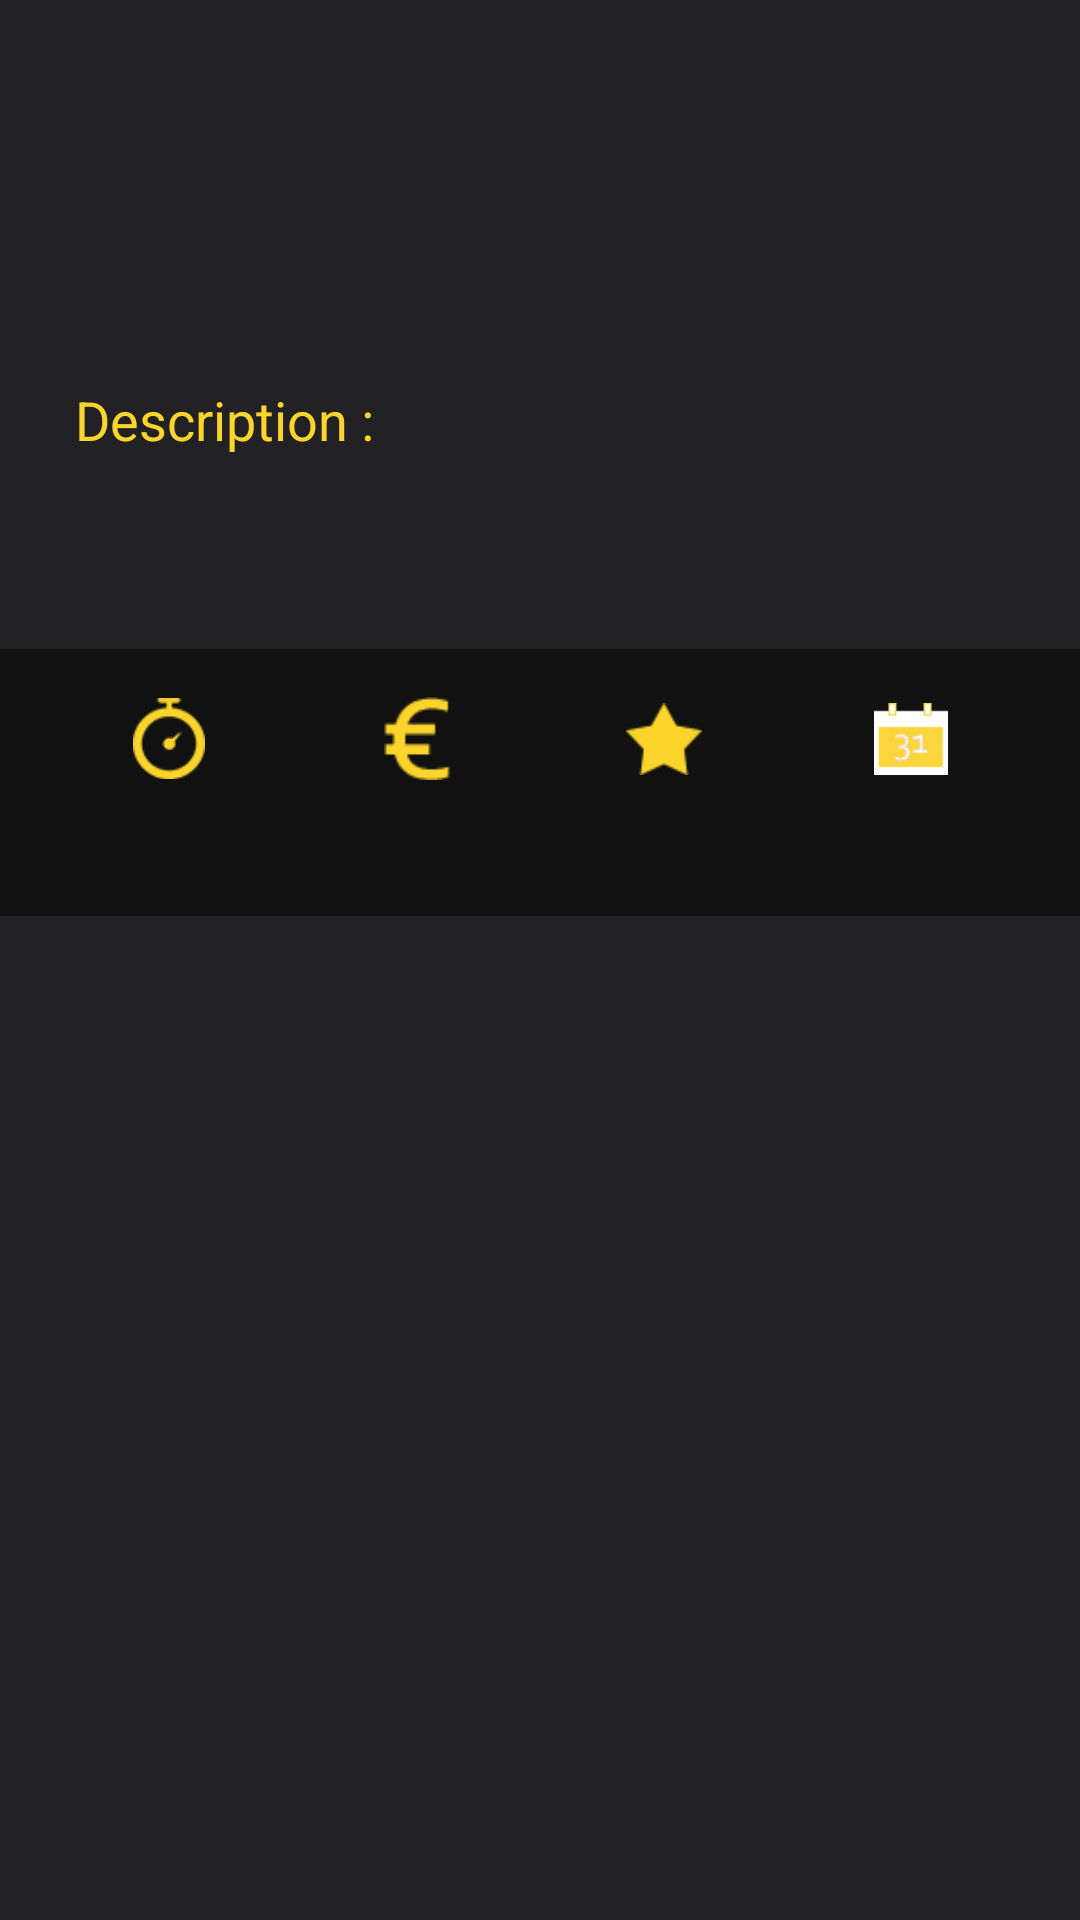

Icons on this 1080w x 1920h Android screen, each with its box as (left=x1, top=y1, right=x2, bottom=y2):
chrono: (left=133, top=698, right=205, bottom=779)
date: (left=874, top=703, right=948, bottom=775)
note: (left=626, top=703, right=702, bottom=775)
prix: (left=384, top=697, right=450, bottom=780)
